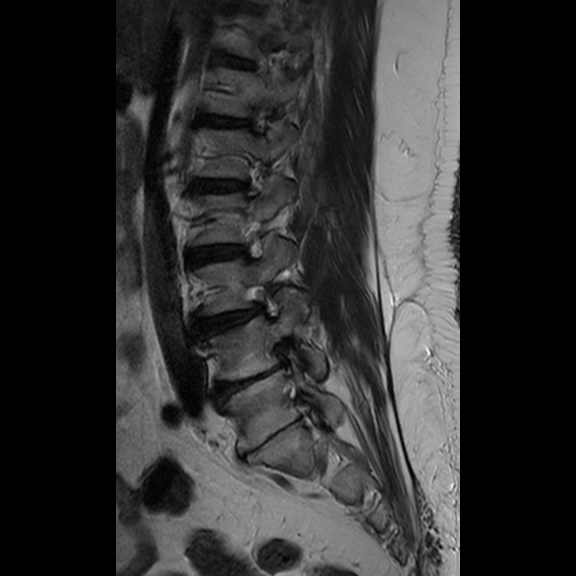RFS1: (238, 275, 289, 327)
